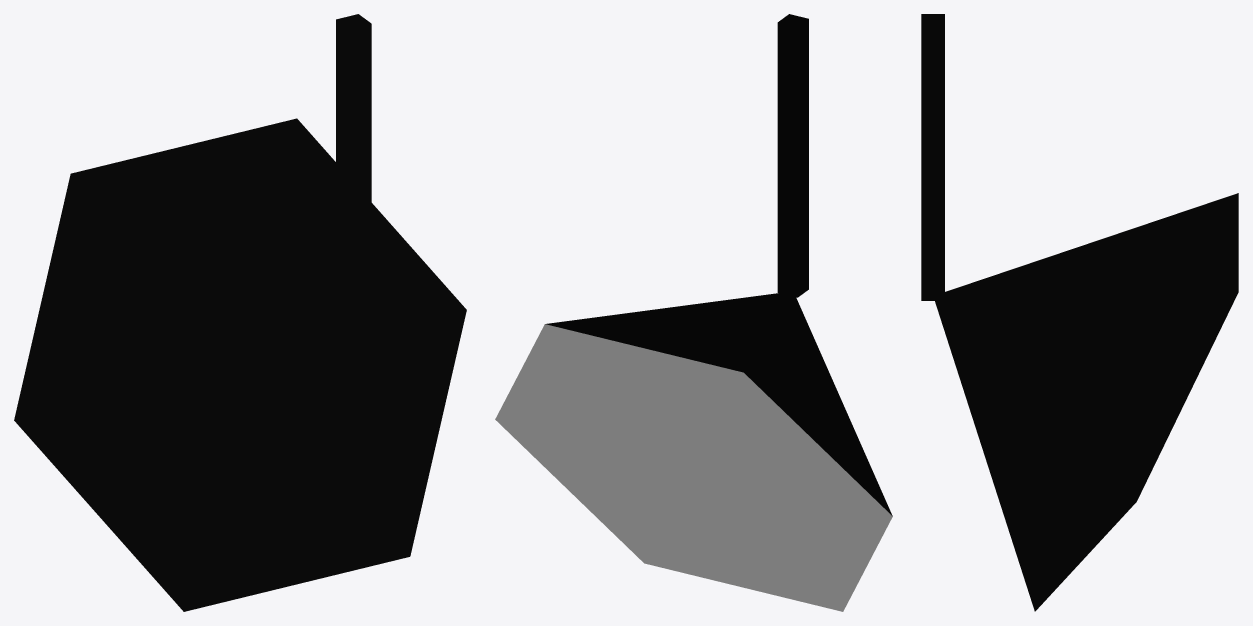
Rendered from umbrella_softbox.obj.
The picture shows the model from 3 angles, left to right: view 1: azimuth 30°, elevation 25°; view 2: azimuth 150°, elevation 25°; view 3: azimuth 270°, elevation 25°; orthographic projection. The views are drawn at different scales.
Parts seen in each view (by area): view 1: Umbrella_Softbox; view 2: Umbrella_Softbox; view 3: Umbrella_Softbox.
Part boxes in pixels (left/top/right/bottom): Umbrella_Softbox: left=14, top=14, right=466, bottom=611; Umbrella_Softbox: left=495, top=14, right=892, bottom=611; Umbrella_Softbox: left=921, top=14, right=1238, bottom=611.
Size of the model in its own units: 2 by 2.55 by 1.35.
2 materials, 2 textured.
